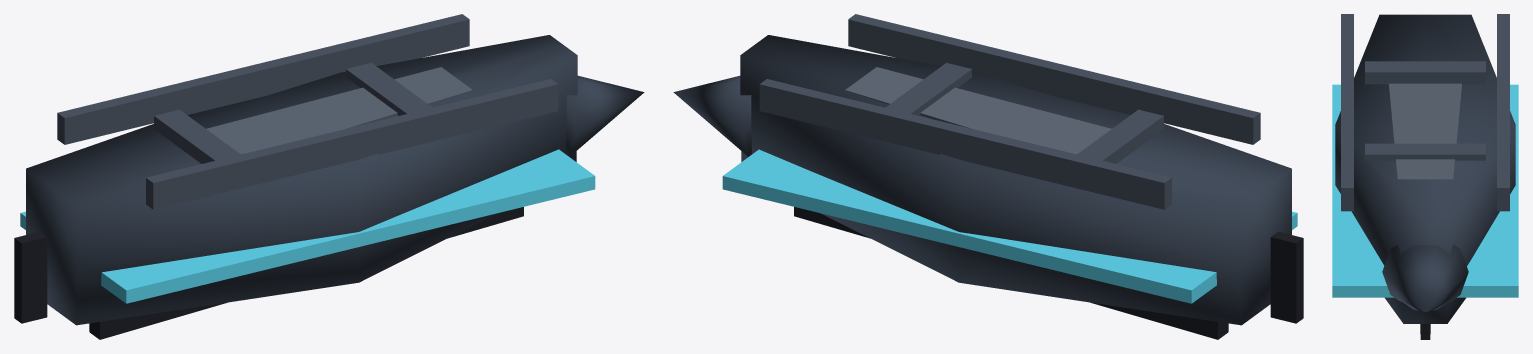
File: Phantom_LittleBoat.obj
3 views of the same model, side by side, from view 1: azimuth 30°, elevation 25°; view 2: azimuth 150°, elevation 25°; view 3: azimuth 270°, elevation 25° (orthographic). The views are drawn at different scales.
Parts seen in each view (by area): view 1: Phantom_LittleBoat; view 2: Phantom_LittleBoat; view 3: Phantom_LittleBoat.
Part boxes in pixels (x1,y1,x2,y2): Phantom_LittleBoat: (14,14,644,339); Phantom_LittleBoat: (673,14,1303,339); Phantom_LittleBoat: (1332,14,1518,339).
Bounding box in the file's own units: 1.47 × 0.416 × 0.43.
